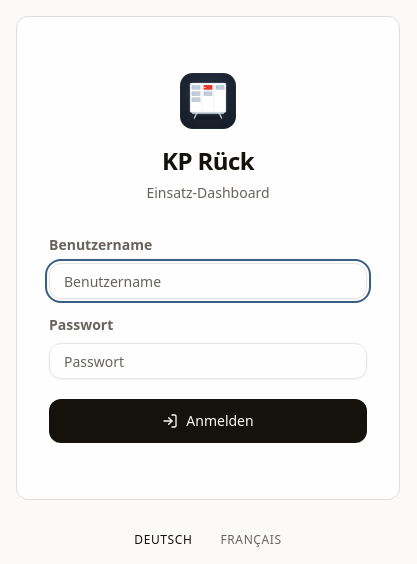
Test: LoginPage while signing in › shows the busy button with words, and no made-up percentage
In the field labelled "Benutzername": point(208, 281) [49,263,367,299], type "editor"
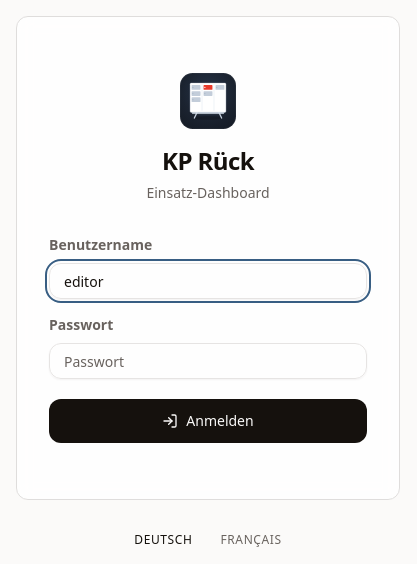
In the password field labelled "Passwort": point(208, 361) [49,343,367,379], type "editor"
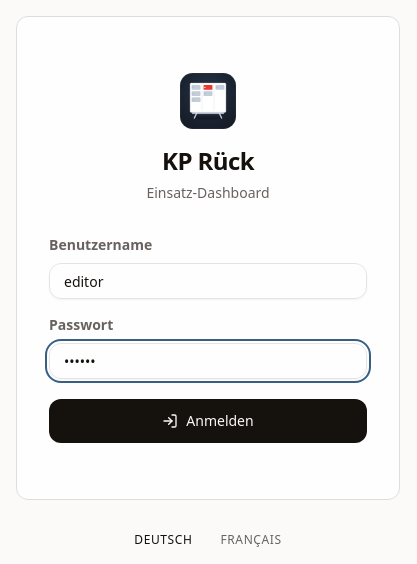
Click the button "Anmelden": point(208, 421) [49,399,367,443]
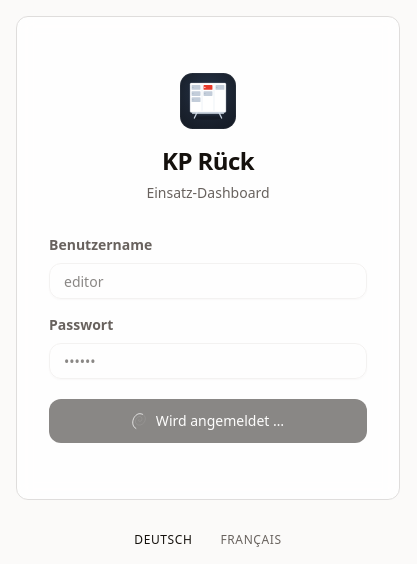
Check: the button "Wird angemeldet …" is disabled, box [49,399,367,443]
Check: the icon is shown, box [132,413,148,429]
